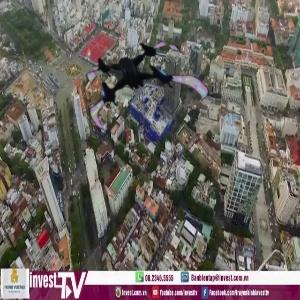drone: (77, 26, 196, 145)
